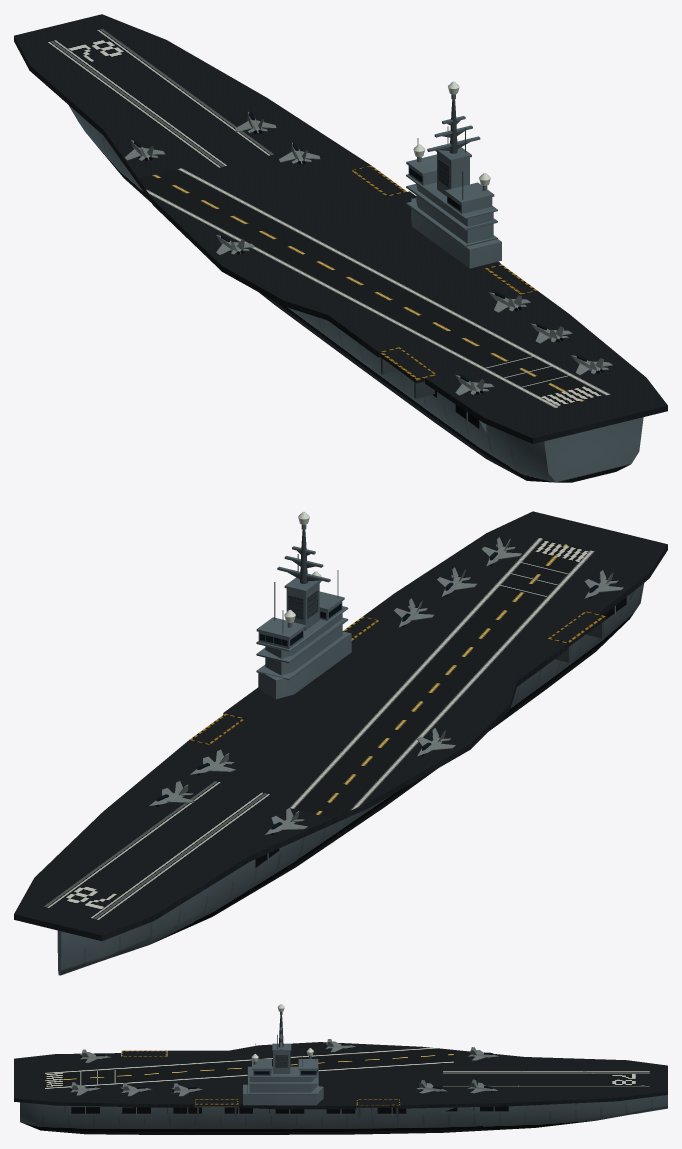
Rendered from aircraft_carrier_lod1.glb.
3 views of the same model, one above another, from view 1: azimuth 30°, elevation 25°; view 2: azimuth 150°, elevation 25°; view 3: azimuth 270°, elevation 25° (orthographic). The views are drawn at different scales.
Visible parts, largest first — view 1: deck, hull, island, aircraft, elevators, mast; view 2: deck, hull, island, aircraft, elevators, mast; view 3: deck, hull, island, aircraft, elevators, mast.
Boxes of the visible parts, box(x1,y1,x2,y2) form: deck: box(14, 14, 667, 443); hull: box(68, 105, 643, 482); island: box(406, 147, 501, 268); aircraft: box(124, 112, 612, 395); elevators: box(351, 165, 537, 383); mast: box(413, 81, 490, 199); deck: box(14, 511, 667, 940); hull: box(57, 583, 644, 975); island: box(256, 577, 351, 699); aircraft: box(149, 537, 623, 835); elevators: box(189, 611, 605, 744); mast: box(274, 511, 338, 632); deck: box(14, 1042, 667, 1109); hull: box(20, 1095, 667, 1134); island: box(243, 1043, 323, 1105); aircraft: box(69, 1039, 498, 1096); elevators: box(121, 1050, 399, 1107); mast: box(251, 1004, 315, 1066).
Bounding box in the file's own units: 15.3 × 15.05 × 64.
1 material, 1 textured.
